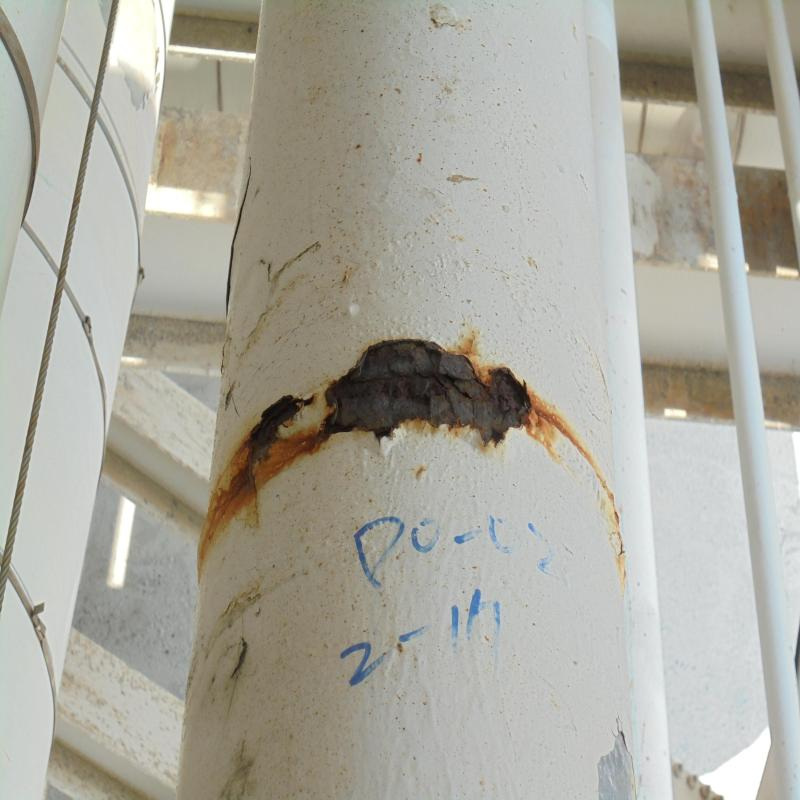Fracture: (362, 368, 475, 397), (258, 402, 293, 424)
corrosion: (322, 336, 519, 441), (206, 431, 307, 483)
